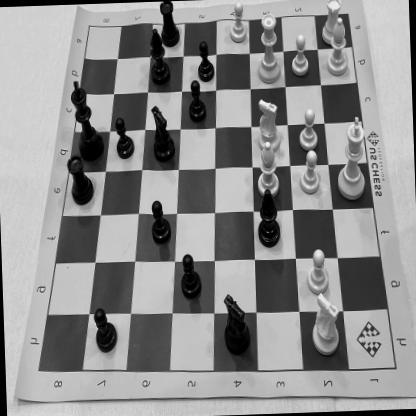black-bishop: (256, 187, 282, 250), (147, 25, 171, 90)
black-king: (68, 74, 106, 161)
black-knight: (221, 290, 252, 356), (150, 102, 176, 165)
black-pawn: (92, 304, 120, 355), (148, 196, 173, 247), (178, 252, 202, 302), (113, 113, 135, 161), (187, 78, 207, 125), (196, 38, 216, 84)
black-rook: (64, 152, 96, 209), (158, 1, 182, 50)
white-bishop: (322, 17, 353, 78), (256, 140, 280, 198)
white-king: (334, 114, 370, 202)
white-knight: (309, 289, 343, 358), (254, 96, 282, 155)
white-pawn: (296, 149, 324, 196), (305, 246, 331, 296), (296, 106, 321, 154), (288, 29, 310, 79), (227, 0, 249, 45)
white-queen: (254, 10, 284, 86)
white-rook: (317, 0, 345, 49)
